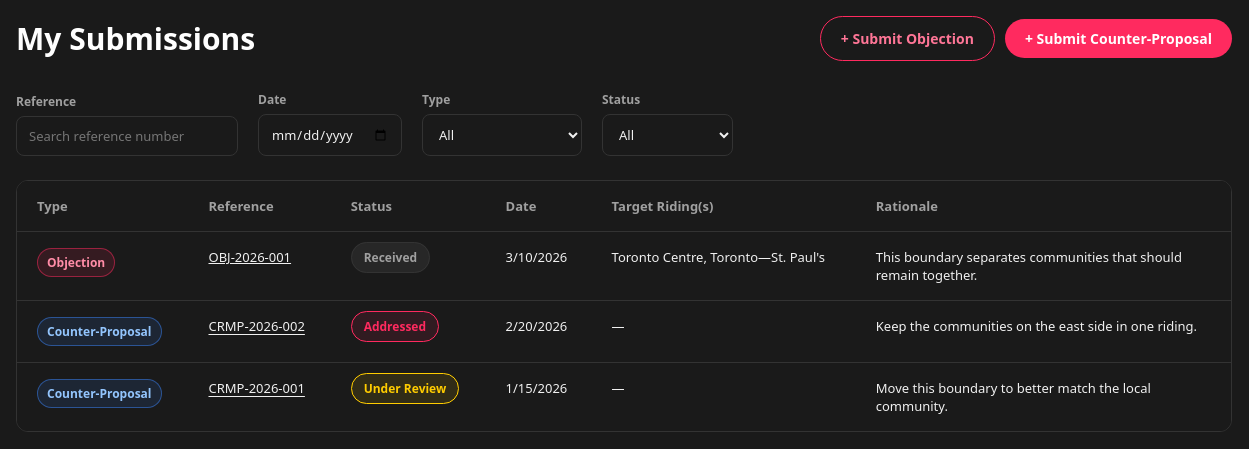
Test: filters submissions by objection and counter-proposal type
The image size is (1249, 449).
Expected: the text "OBJ-2026-001" is shown, [188,232,331,300]
Select "Objections" in the dropdown labelled "Type": [502, 135] box [422,114,582,156]
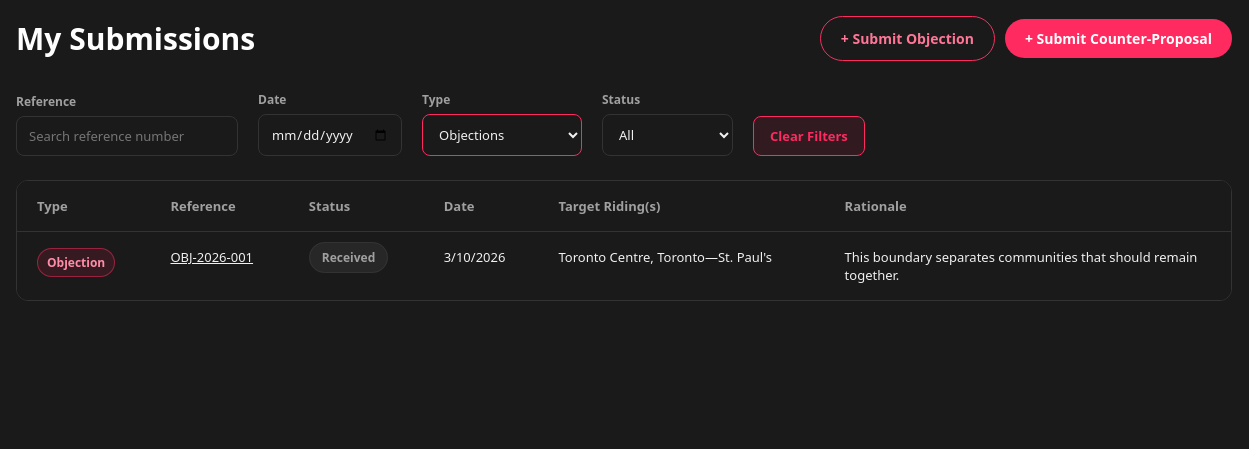
Expected: the text "OBJ-2026-001" is shown, [150,232,289,300]
Now the text "CRMP-2026-001" is gone
Now the text "CRMP-2026-002" is gone
Select "Counter-Proposals" in the dropdown labelled "Type": [502, 135] box [422,114,582,156]
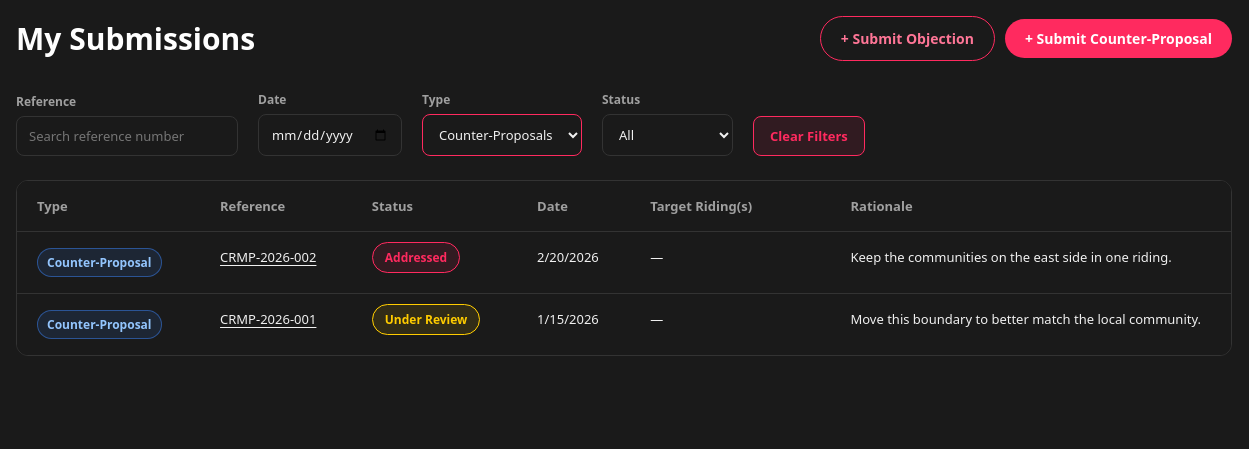
Now the text "OBJ-2026-001" is gone
Now the text "CRMP-2026-001" is shown, box [200,294,352,355]
Now the text "CRMP-2026-002" is shown, box [200,232,352,294]
